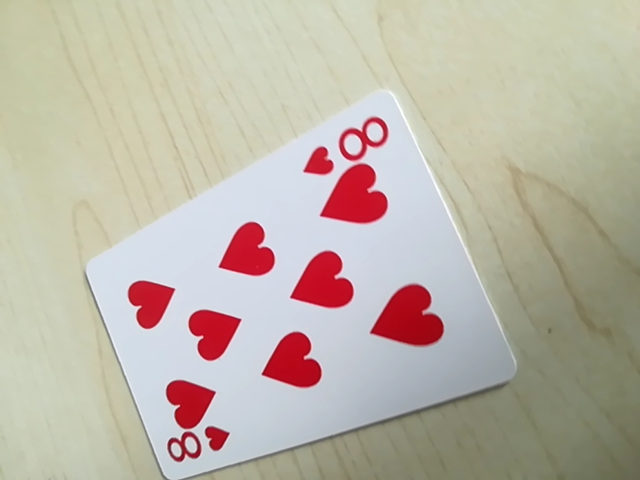hx 8: (302, 109, 393, 175), (162, 425, 230, 472)
